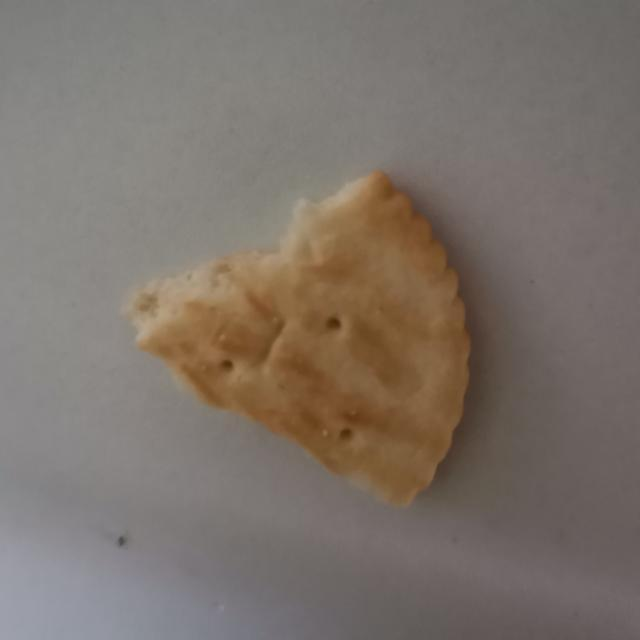Broken: (127, 168, 472, 508)
